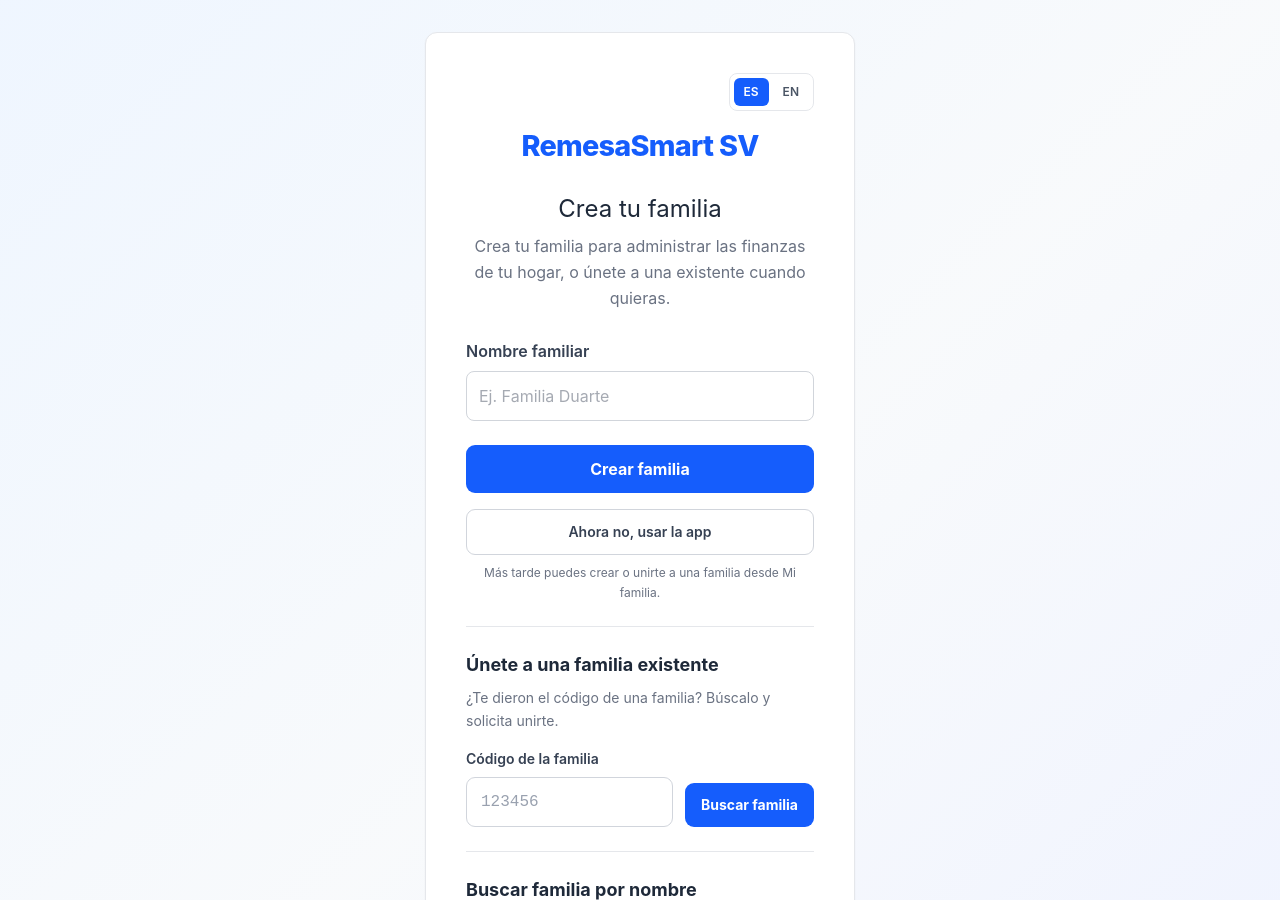
Test case: HogarPendiente › valida el formato del código en el cliente antes de buscar
The image size is (1280, 900).
Type "cualquier-cosa" into the field labelled "Código de la familia" at {"x": 569, "y": 802}, box [466, 777, 673, 827]
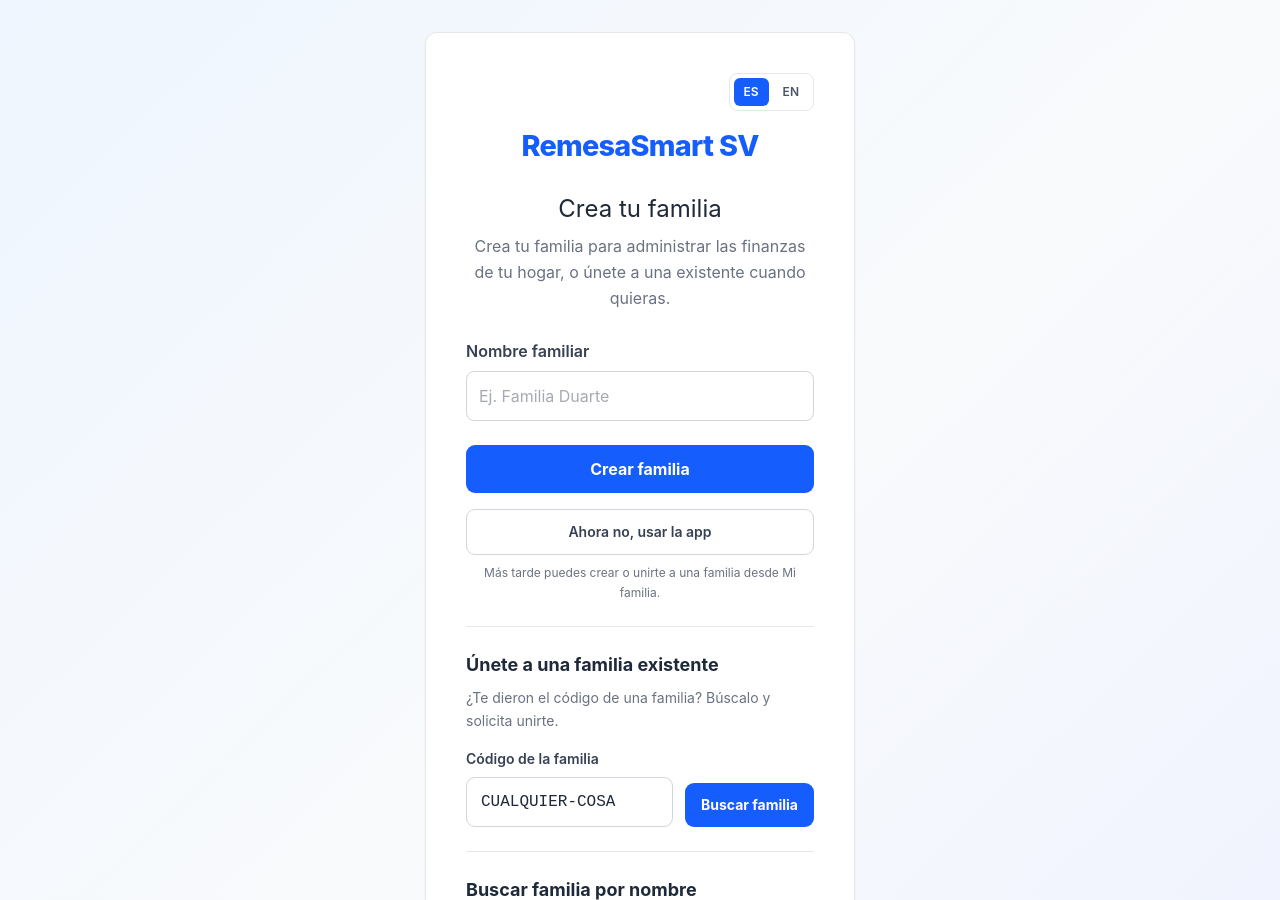
Click the button "Buscar familia" at {"x": 749, "y": 805}, box [685, 783, 814, 827]
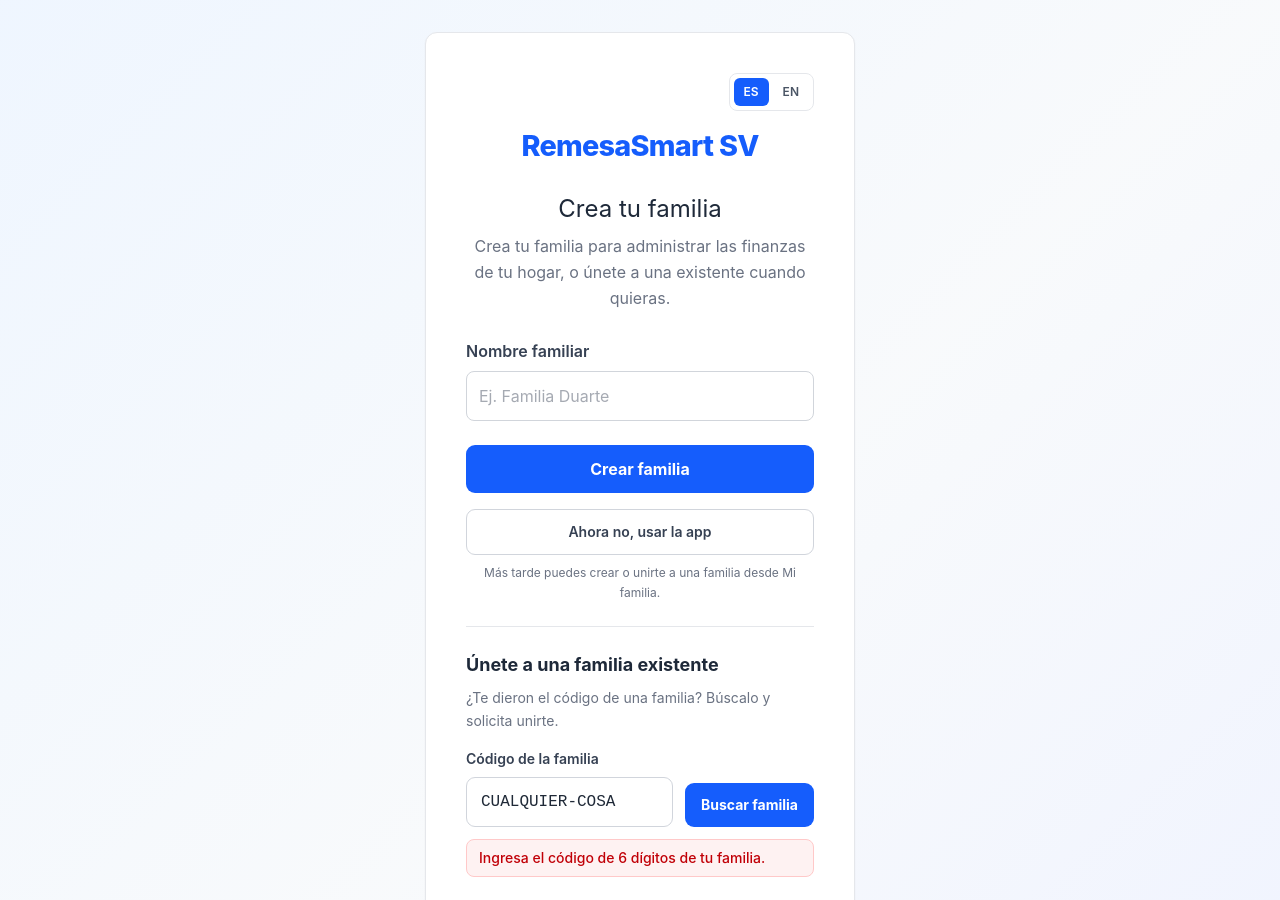
Check: the text "Ingresa el código de 6 dígitos de tu familia." is shown, box [466, 839, 814, 877]
